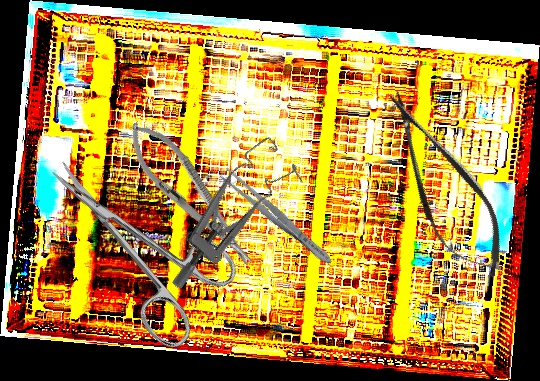Dressing Forceps: (216, 164, 337, 270)
Iris Scissors: (19, 124, 252, 356)
Micro Scissor: (364, 77, 523, 292)
Needle Holder: (115, 110, 266, 279)
Speculum: (136, 133, 315, 292)
